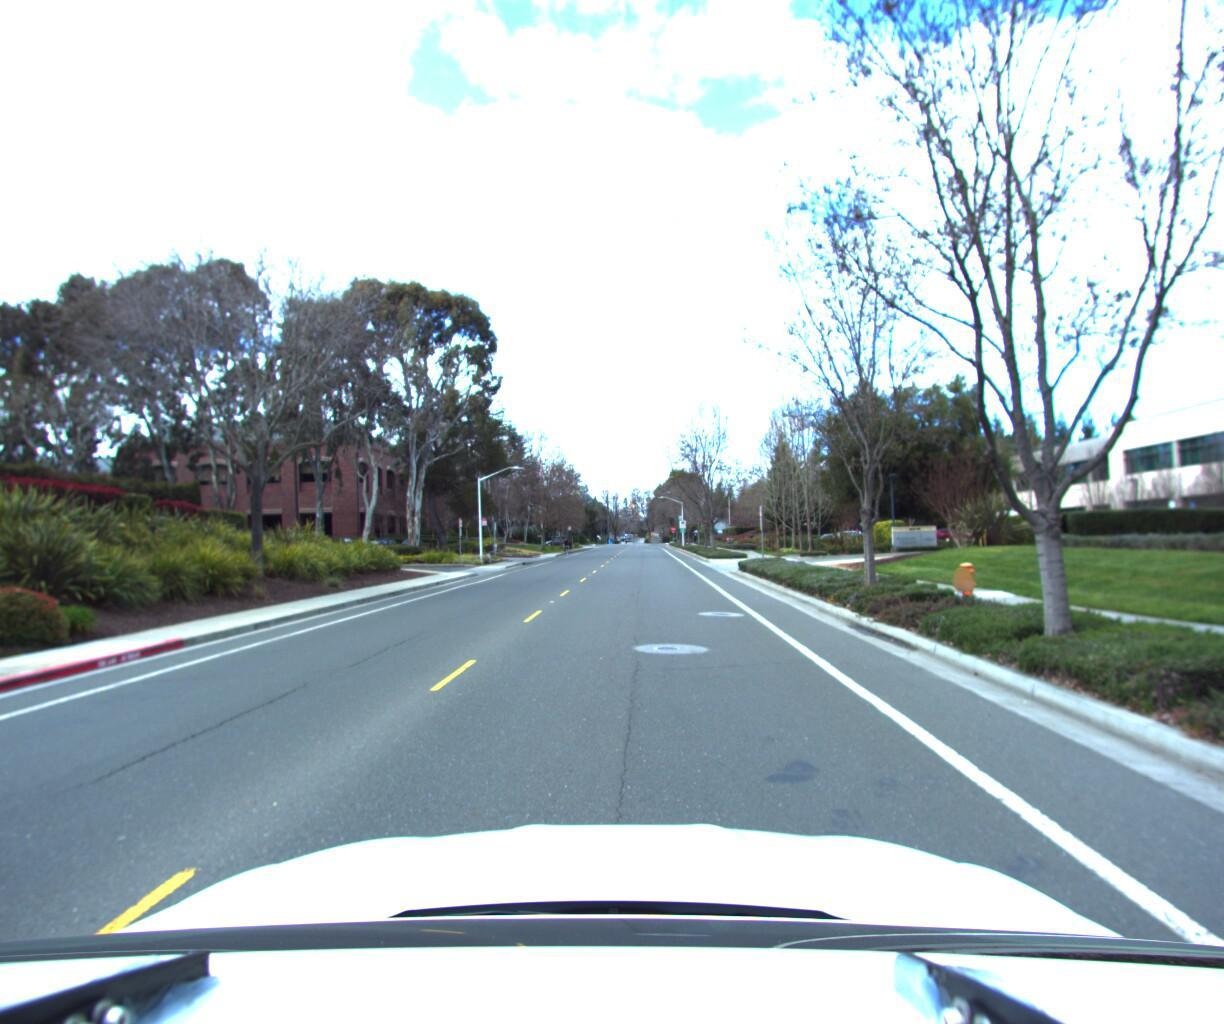bicycle: (561, 534, 573, 556)
